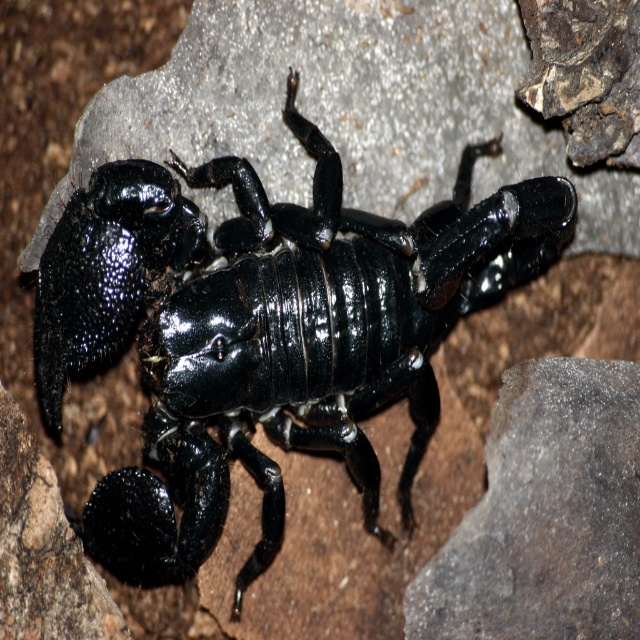Scorpion: (14, 65, 583, 628)
